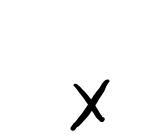mult: (70, 79, 110, 131)
